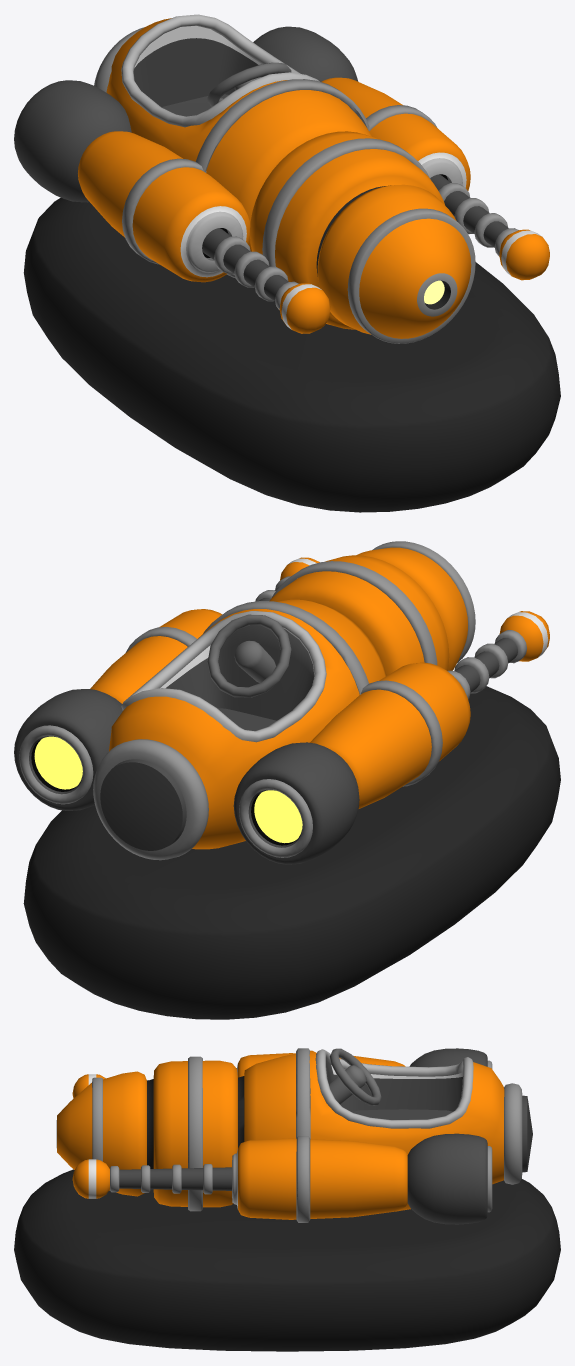
Rendered from mesh_Car_Menu_J.fbx.
3 views of the same model, one above another, from view 1: azimuth 30°, elevation 25°; view 2: azimuth 150°, elevation 25°; view 3: azimuth 270°, elevation 25° (orthographic). The views are drawn at different scales.
Parts seen in each view (by area): view 1: mesh_Car_Menu_J; view 2: mesh_Car_Menu_J; view 3: mesh_Car_Menu_J.
Boxes of the visible parts, x1,y1,x2,y2 form: mesh_Car_Menu_J: (14,14,560,512); mesh_Car_Menu_J: (14,541,560,1019); mesh_Car_Menu_J: (14,1048,560,1351).
Bounding box in the file's own units: 1.79 × 1.5 × 2.97.
